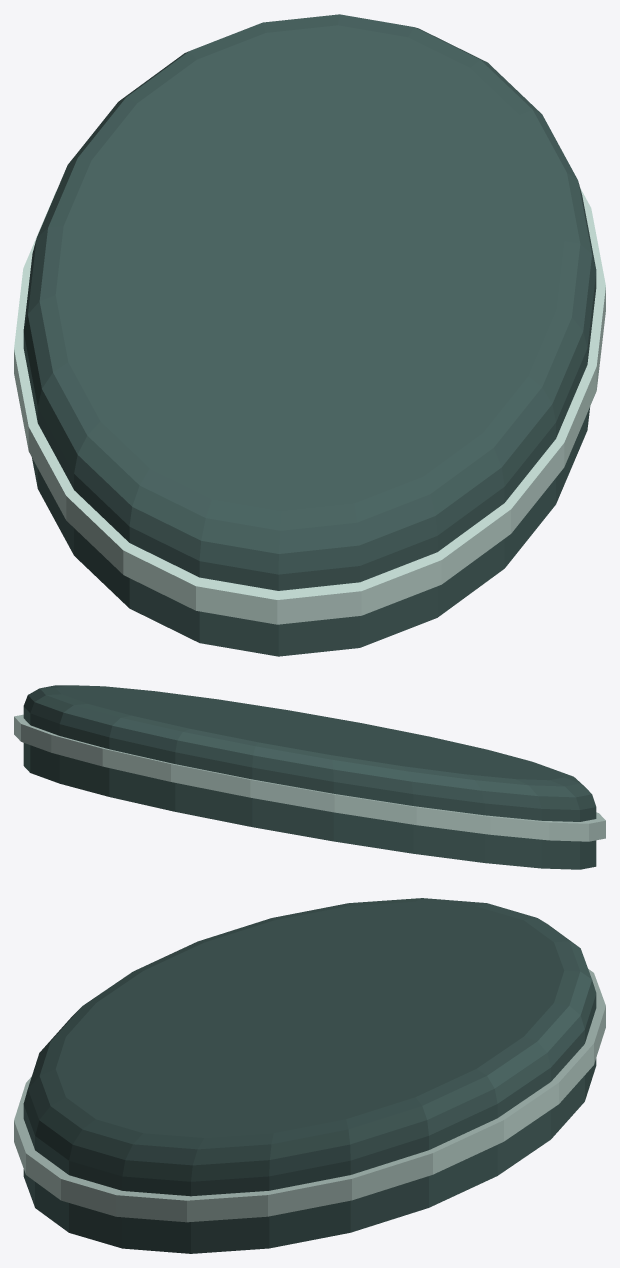
Rendered from Button_ResetBase.gltf.
The picture shows the model from 3 angles, top to bottom: view 1: azimuth 30°, elevation 25°; view 2: azimuth 150°, elevation 25°; view 3: azimuth 270°, elevation 25°; orthographic projection. The views are drawn at different scales.
Parts seen in each view (by area): view 1: Button_ResetBase_baked; view 2: Button_ResetBase_baked; view 3: Button_ResetBase_baked.
Part boxes in pixels (box(x1,y1,x2,y2)): Button_ResetBase_baked: box(14, 14, 605, 656); Button_ResetBase_baked: box(14, 685, 605, 869); Button_ResetBase_baked: box(14, 898, 605, 1253).
Bounding box in the file's own units: 0.8004 × 0.4146 × 0.744.
